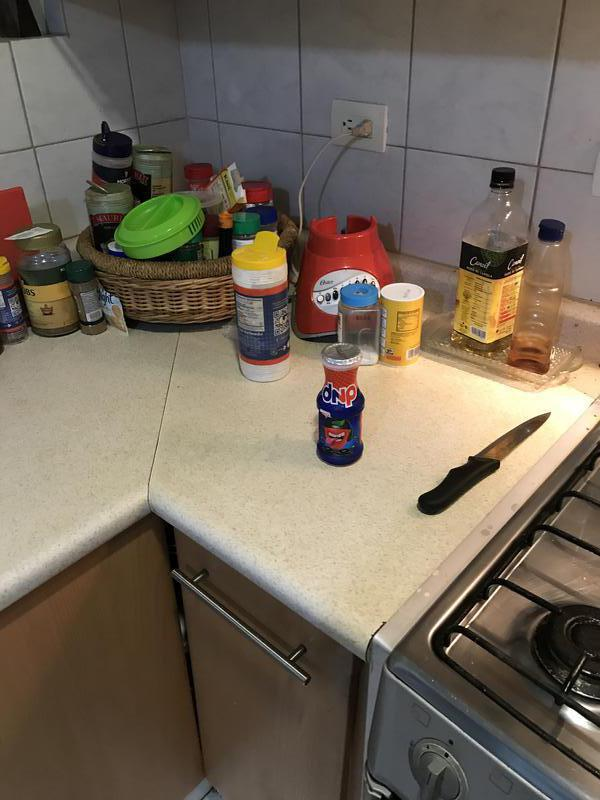danup: (314, 342, 364, 468)
